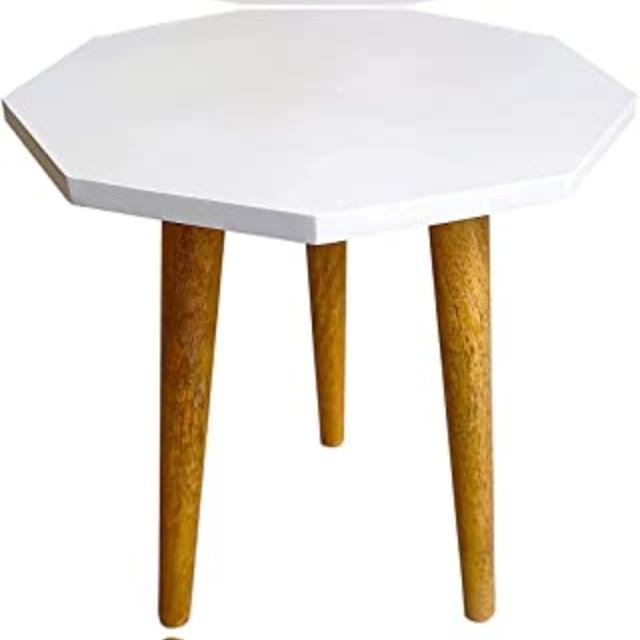obstacle: (86, 149, 592, 611)
